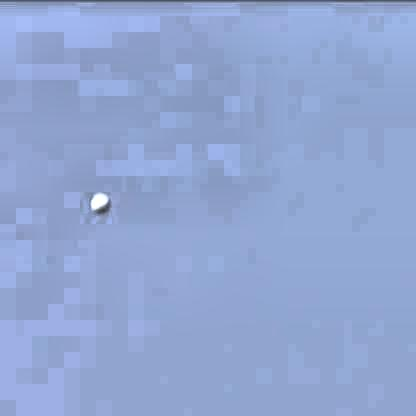golfball: (89, 186, 108, 208)
